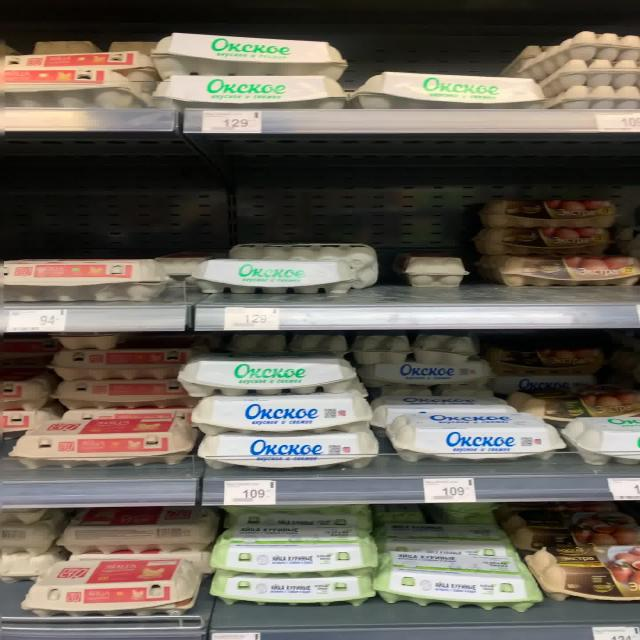egg box: (362, 536, 542, 612), (12, 553, 200, 619), (5, 406, 199, 467), (389, 414, 561, 461), (148, 69, 348, 108), (204, 526, 376, 571), (158, 36, 346, 76), (188, 397, 375, 435), (0, 257, 176, 296), (170, 357, 356, 392), (4, 62, 146, 106), (187, 258, 360, 294), (198, 434, 376, 467), (356, 74, 544, 104), (204, 571, 375, 603), (473, 224, 623, 259), (476, 193, 624, 225), (363, 357, 497, 392), (492, 256, 638, 287), (49, 348, 180, 380), (52, 377, 188, 407)
